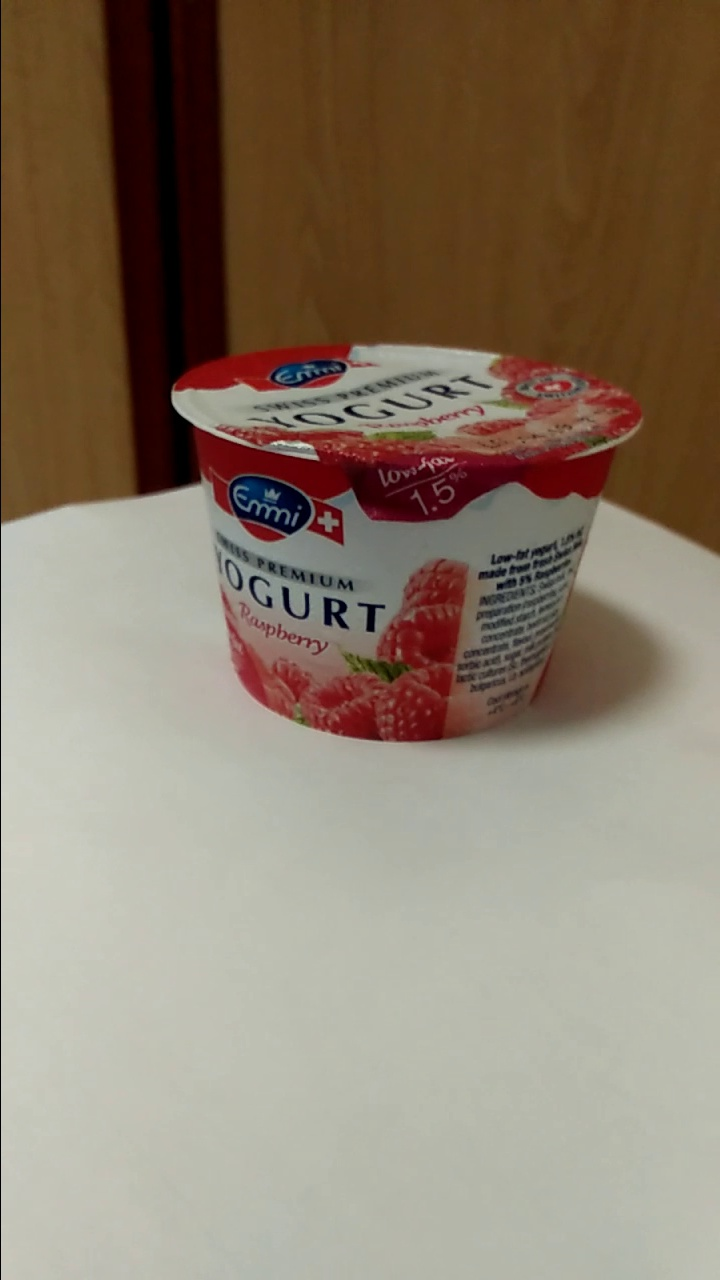yogurt: (174, 347, 633, 745)
